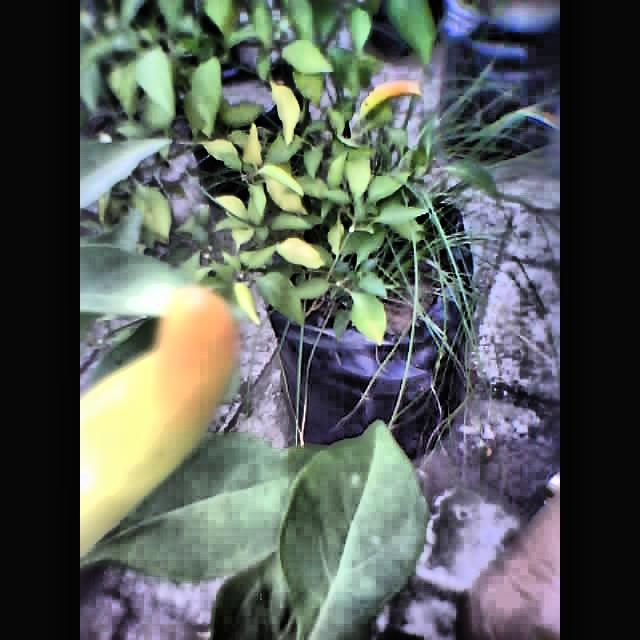Cabai: (80, 268, 250, 549), (349, 70, 436, 130)
